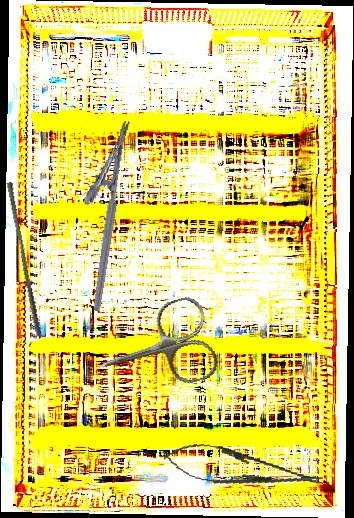Iris Scissors: (86, 293, 222, 407)
Needle Holder: (67, 116, 131, 312), (161, 437, 326, 501)
Pusher: (1, 181, 48, 338)
